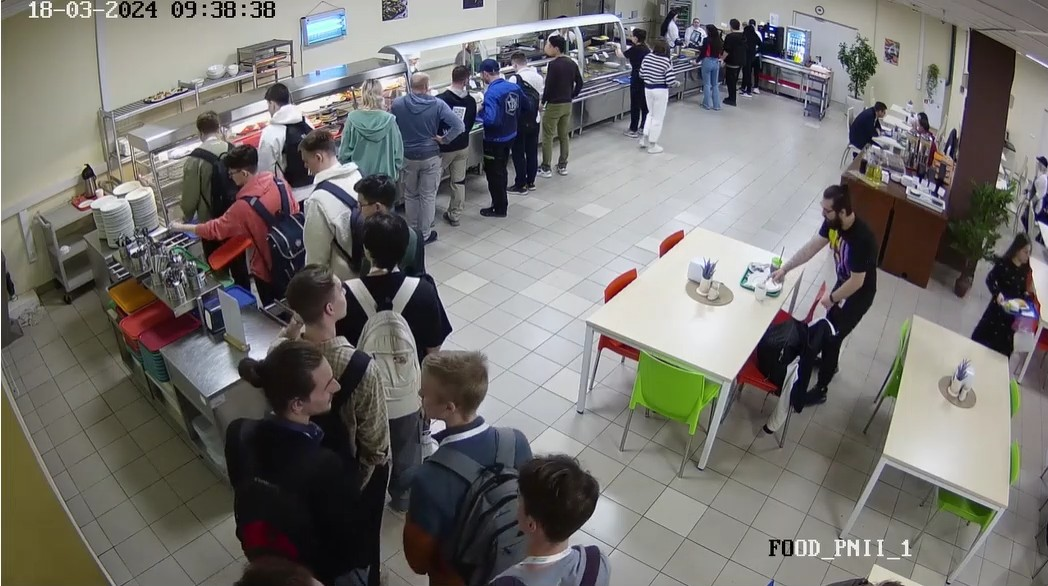Na_Kasse: (719, 15, 744, 107), (741, 14, 762, 97), (700, 22, 719, 112)
Ne_v_Ocheredi: (223, 344, 365, 586), (412, 349, 514, 534), (784, 179, 872, 382), (479, 452, 609, 586), (944, 222, 1047, 366), (355, 215, 435, 399), (278, 262, 355, 410), (348, 169, 413, 248), (1025, 144, 1048, 235)
Personal: (394, 43, 428, 70), (659, 4, 683, 39), (456, 34, 488, 59), (686, 12, 703, 43), (556, 18, 578, 39)
Vybiraet: (200, 144, 285, 287), (291, 132, 353, 258), (339, 69, 392, 177), (400, 69, 434, 235), (503, 48, 542, 190), (248, 77, 304, 175), (444, 63, 474, 241), (482, 56, 516, 209), (183, 109, 235, 207), (637, 37, 675, 153), (545, 39, 576, 176), (623, 25, 644, 126)
Za_Stolom: (841, 97, 890, 162), (907, 109, 941, 156)
